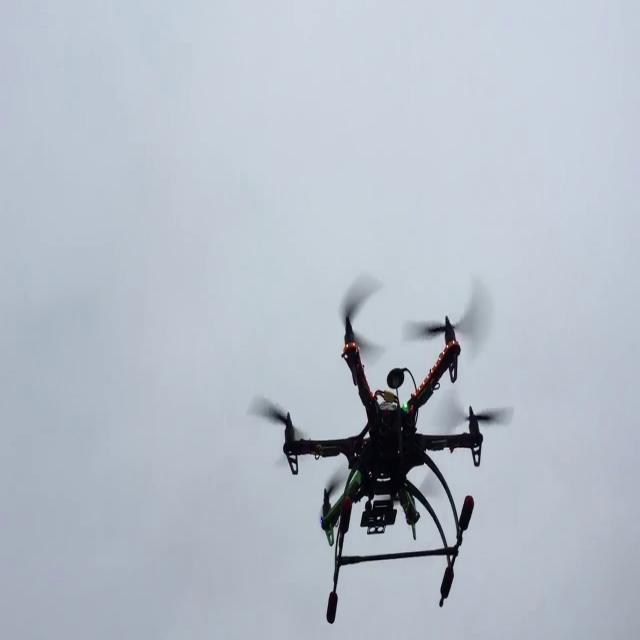drone: (235, 263, 535, 608)
